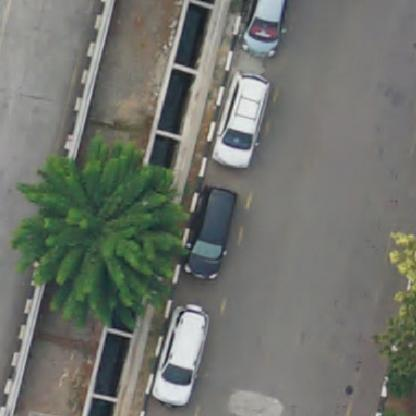car: (153, 306, 214, 412), (183, 184, 243, 279), (213, 70, 271, 168), (240, 0, 293, 58)
